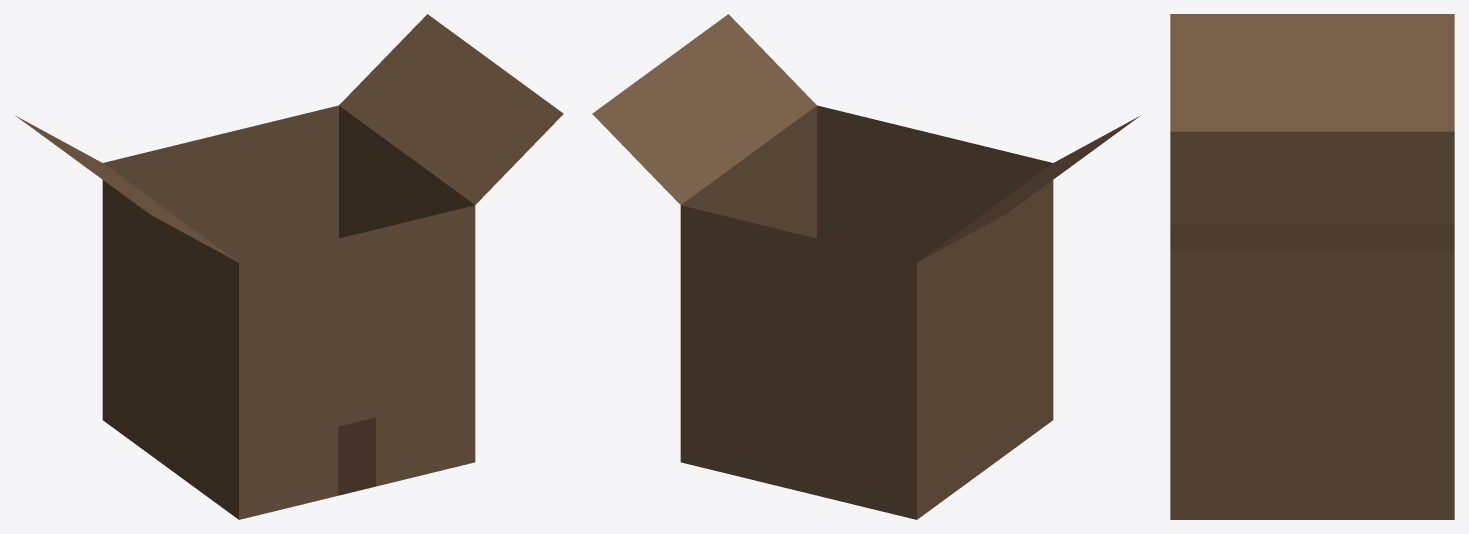
The model's file is cardboardBoxOpen.glb.
3 views of the same model, side by side, from view 1: azimuth 30°, elevation 25°; view 2: azimuth 150°, elevation 25°; view 3: azimuth 270°, elevation 25° (orthographic). The views are drawn at different scales.
Parts seen in each view (by area): view 1: cardboardBoxOpen(Clone); view 2: cardboardBoxOpen(Clone); view 3: cardboardBoxOpen(Clone).
Boxes of the visible parts, <box> form: cardboardBoxOpen(Clone): <box>15,14,563,519</box>; cardboardBoxOpen(Clone): <box>592,14,1140,519</box>; cardboardBoxOpen(Clone): <box>1170,14,1454,519</box>.
Bounding box in the file's own units: 0.3719 × 0.281 × 0.2125.
